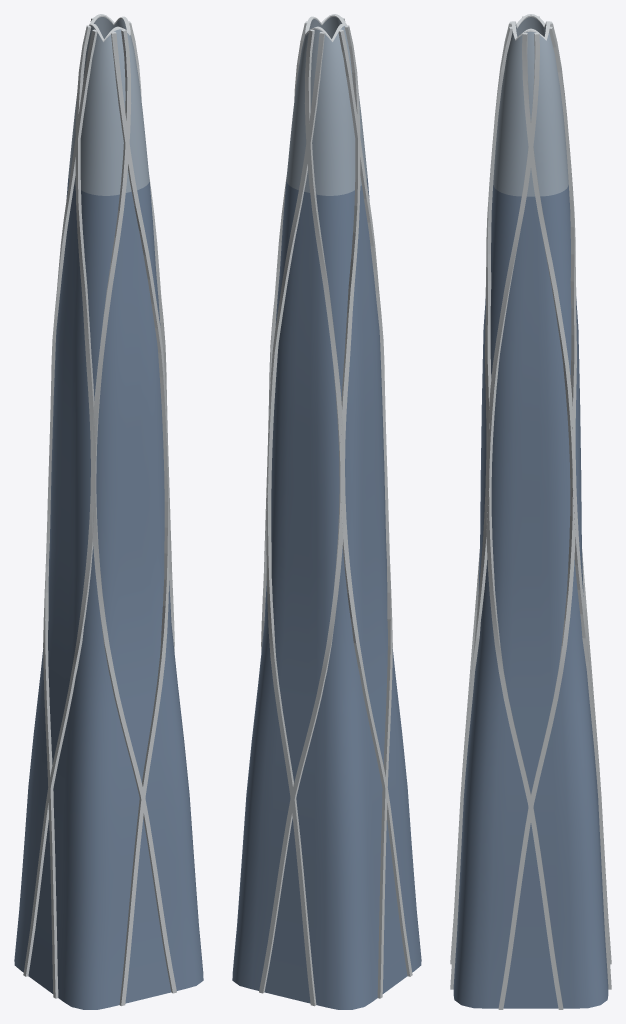
File: tianjin-ctf-finance-centre.glb
3 views of the same model, side by side, from view 1: azimuth 30°, elevation 25°; view 2: azimuth 150°, elevation 25°; view 3: azimuth 270°, elevation 25° (orthographic).
Parts seen in each view (by area): view 1: Tianjin CTF Finance Centre; view 2: Tianjin CTF Finance Centre; view 3: Tianjin CTF Finance Centre.
Part boxes in pixels (x1,y1,x2,y2): Tianjin CTF Finance Centre: [14, 14, 203, 1009]; Tianjin CTF Finance Centre: [232, 14, 421, 1009]; Tianjin CTF Finance Centre: [450, 14, 611, 1009].
Bounding box in the file's own units: 81.25 × 530 × 81.25.
